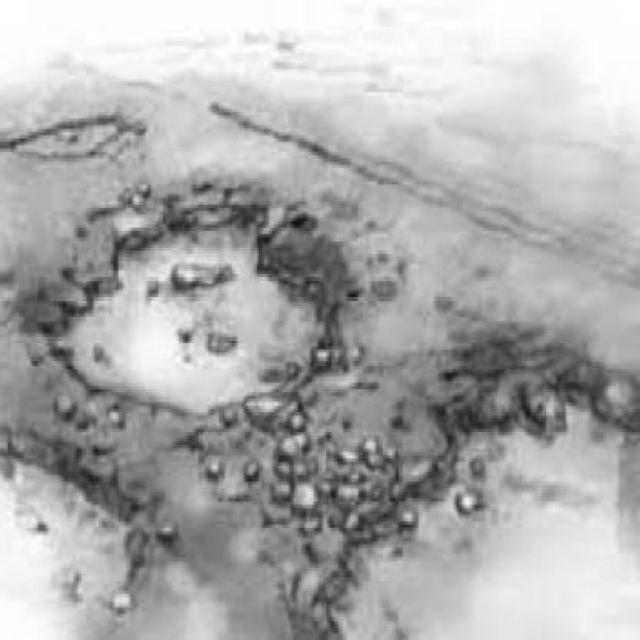pothole: (37, 168, 366, 432)
